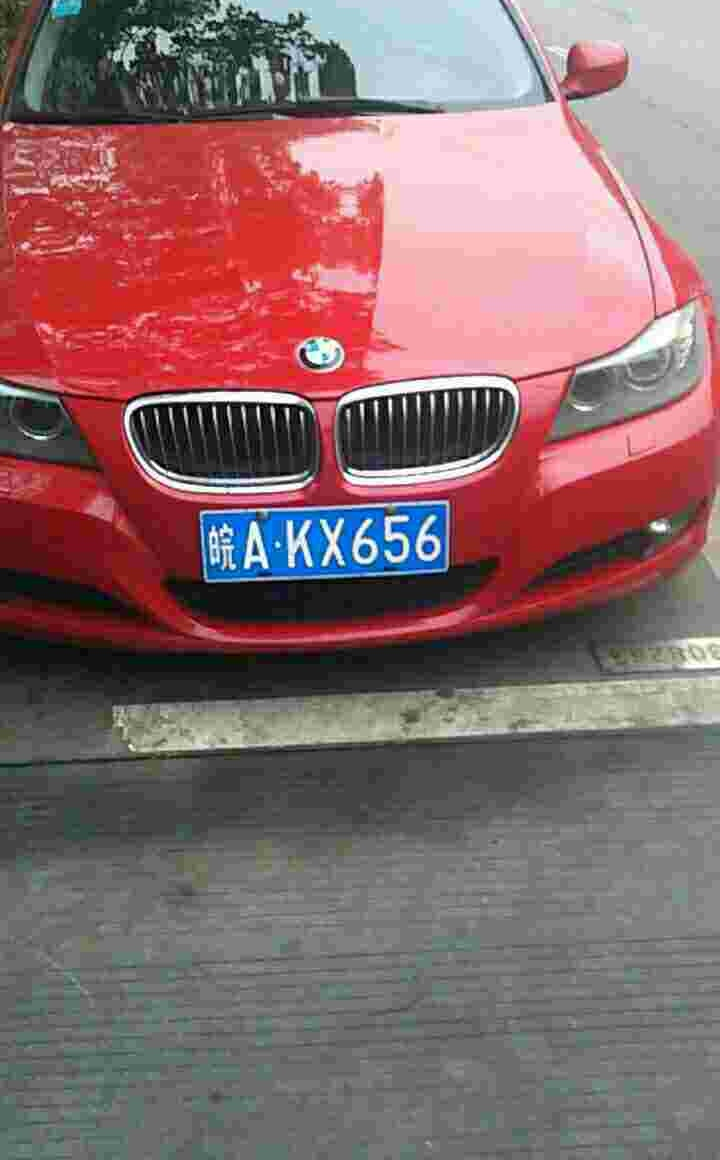car: (196, 512, 465, 578)
